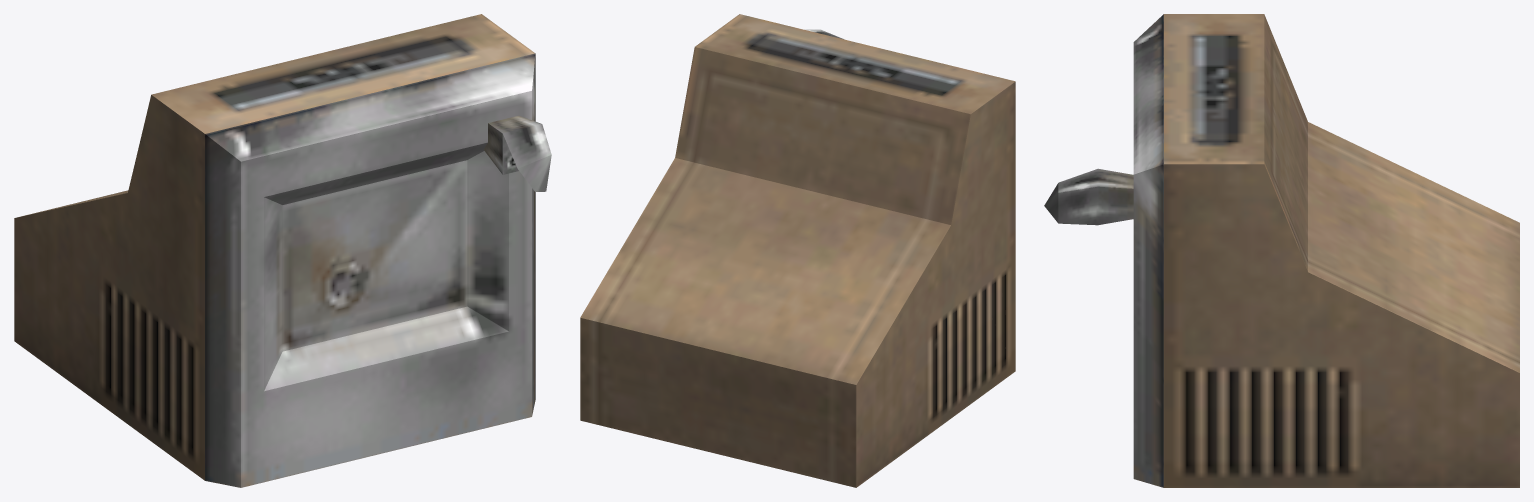
File: drinkingfountain.fbx
3 views of the same model, side by side, from view 1: azimuth 30°, elevation 25°; view 2: azimuth 150°, elevation 25°; view 3: azimuth 270°, elevation 25° (orthographic). The views are drawn at different scales.
Parts seen in each view (by area): view 1: mesh_0; view 2: mesh_0; view 3: mesh_0.
Part boxes in pixels (x1=…): mesh_0: x1=14, y1=14, x2=551, y2=487; mesh_0: x1=580, y1=14, x2=1015, y2=487; mesh_0: x1=1044, y1=14, x2=1519, y2=487.
Bounding box in the file's own units: 39.78 × 39.9 × 53.16.
Materials: 1 (1 with a texture image).
